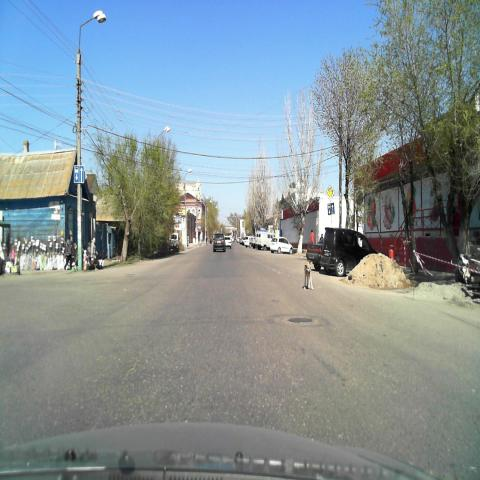5_11: (73, 163, 85, 184)
